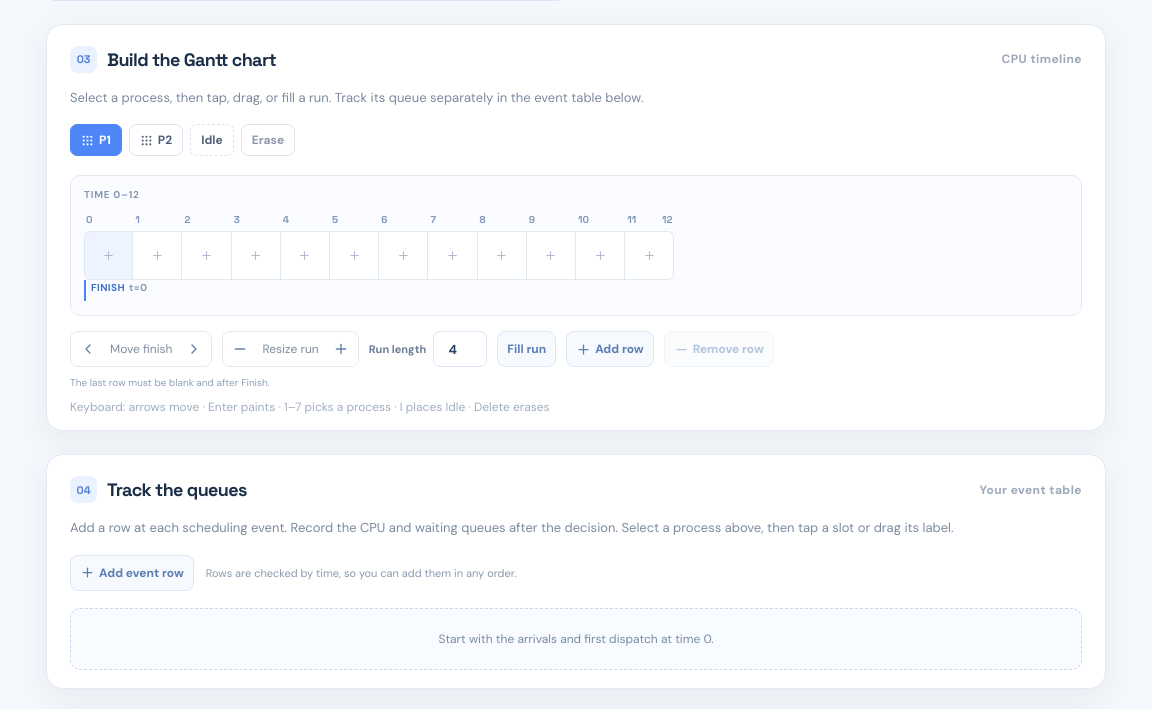
Test: MLFQ exercise › extends the wrapped timeline when a run reaches the last cell
The width and height of the screenshot is (1152, 709).
(page scrolled)
Replace the text in the number field labelled "Run length" with "12" at {"x": 460, "y": 349}, box [433,331,487,367]
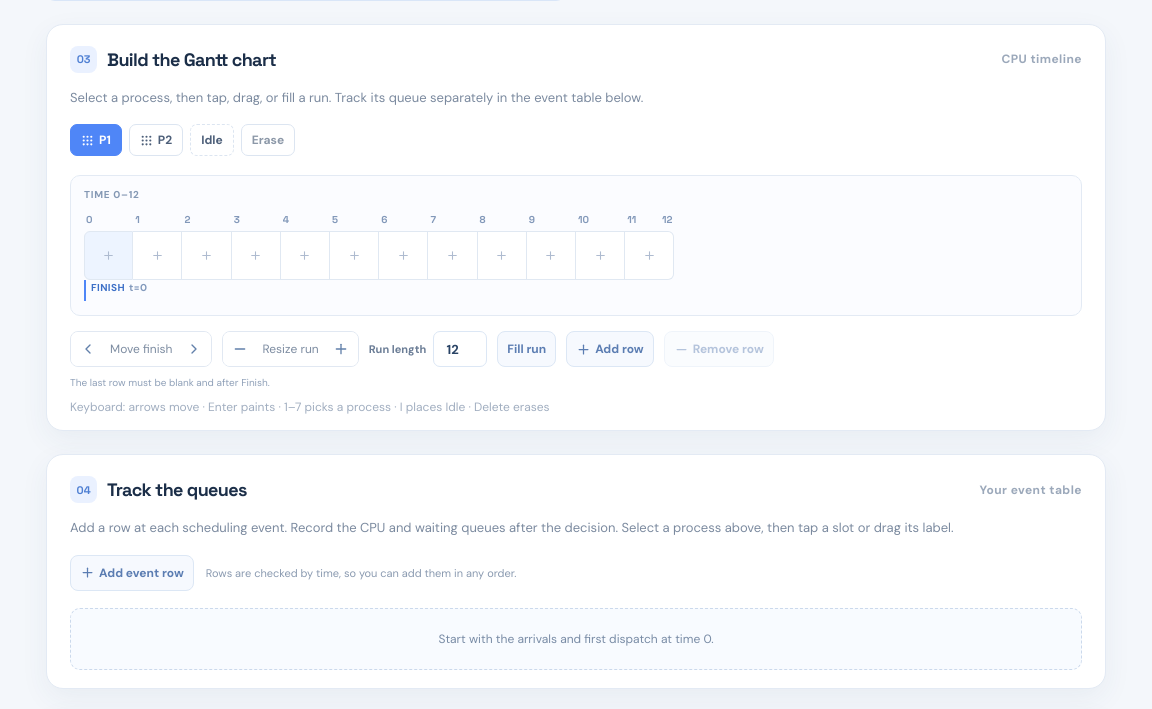
Click the button "Fill run" at {"x": 527, "y": 349}, box [497,331,556,367]
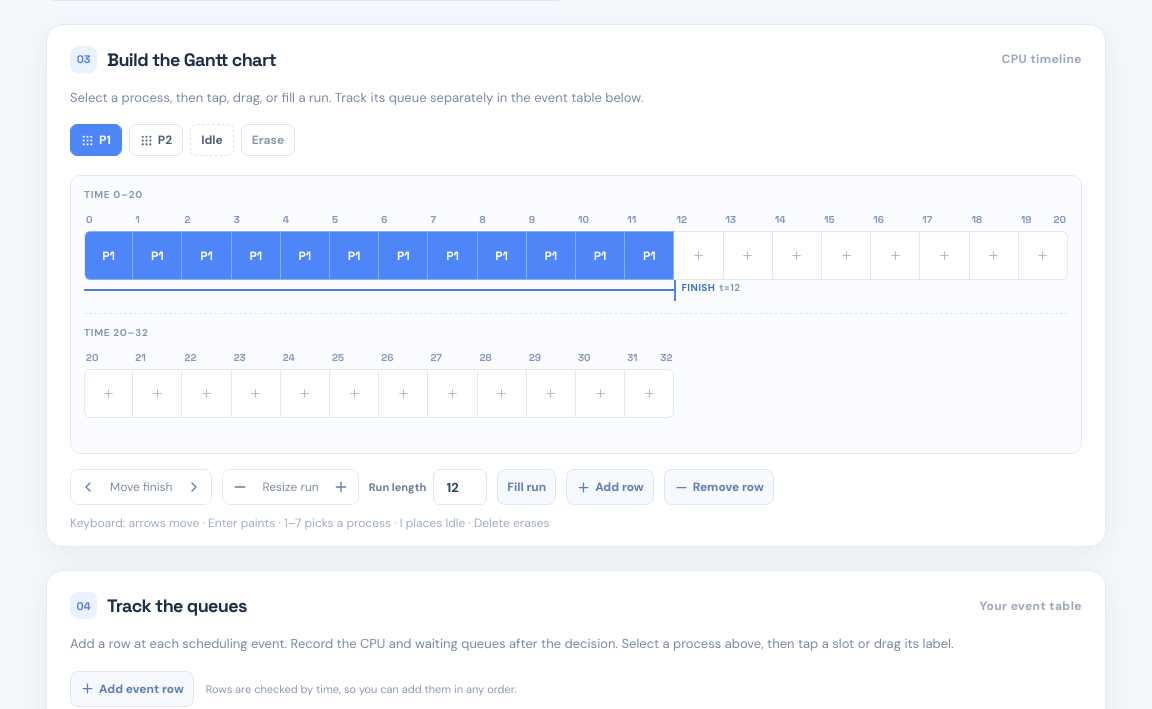
Check: the number of elements with class "timeline-row" is 2, box [84,188,1068,307]; [84,313,1068,445]
Check: the button named "Time 12 to 13: empty" is shown, box [674,231,724,280]
Check: the text "t=12" is shown, box [719,281,740,294]
